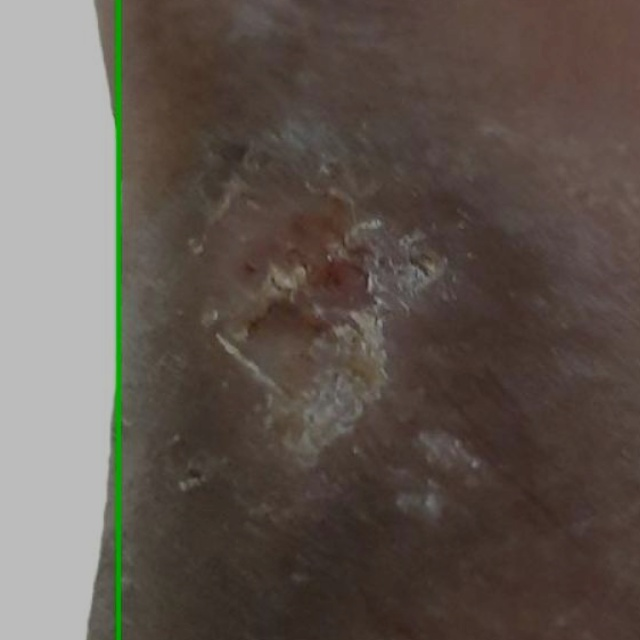Eczema: (0, 0, 118, 639)
